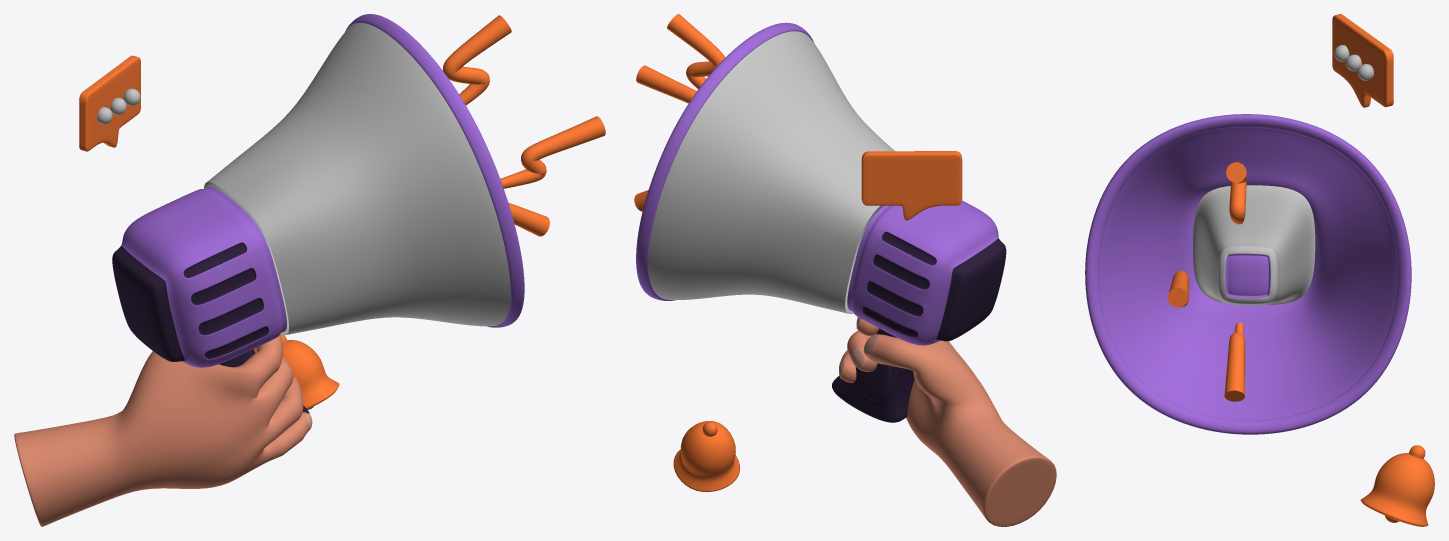
The model's file is marketing-campaign-3d-animated-icon-961570871868.glb.
3 renders of one model, left to right at view 1: azimuth 30°, elevation 25°; view 2: azimuth 150°, elevation 25°; view 3: azimuth 270°, elevation 25°, orthographic. The views are drawn at different scales.
Parts seen in each view (by area): view 1: Megaphone.002, Hand, Body, Chat Box, NurbsPath, NurbsPath.001, Cube.008, NurbsPath.002; view 2: Megaphone.002, Body, Hand, Chat Box, Cube.008, Megaphone, NurbsPath, NurbsPath.001; view 3: Megaphone.002, Cube.008, Chat Box, NurbsPath.002, NurbsPath, NurbsPath.001.
Part boxes in pixels (<box>): Megaphone.002: <box>204,14,524,335</box>; Hand: <box>14,334,312,526</box>; Body: <box>112,187,286,367</box>; Chat Box: <box>79,55,140,151</box>; NurbsPath: <box>443,15,511,105</box>; NurbsPath.001: <box>500,116,605,188</box>; Cube.008: <box>281,334,339,409</box>; NurbsPath.002: <box>508,203,549,236</box>; Megaphone.002: <box>636,22,894,313</box>; Body: <box>847,200,1006,345</box>; Hand: <box>839,317,1056,526</box>; Chat Box: <box>861,151,962,220</box>; Cube.008: <box>673,421,739,491</box>; Megaphone: <box>832,328,914,422</box>; NurbsPath: <box>667,14,725,89</box>; NurbsPath.001: <box>636,65,696,103</box>; Megaphone.002: <box>1085,114,1411,434</box>; Cube.008: <box>1360,445,1434,526</box>; Chat Box: <box>1332,14,1393,107</box>; NurbsPath.002: <box>1224,323,1245,401</box>; NurbsPath: <box>1226,162,1246,224</box>; NurbsPath.001: <box>1167,271,1188,307</box>.
Bounding box in the file's own units: 2.08 × 1.68 × 1.24.
